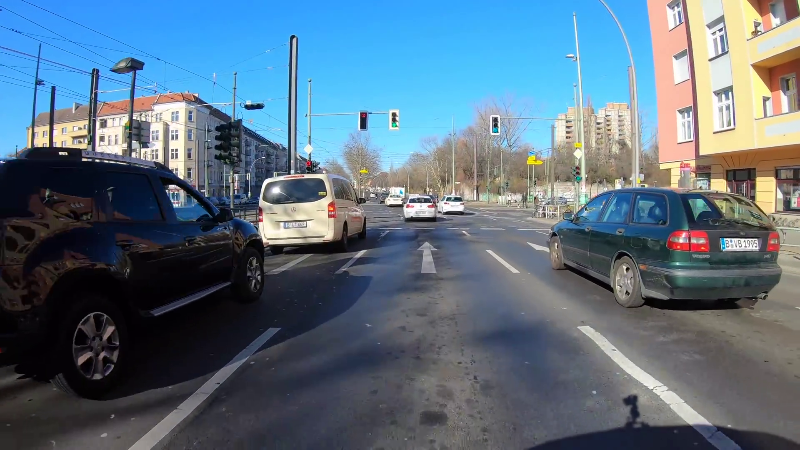Plate: (716, 235, 760, 250), (285, 220, 307, 228)
